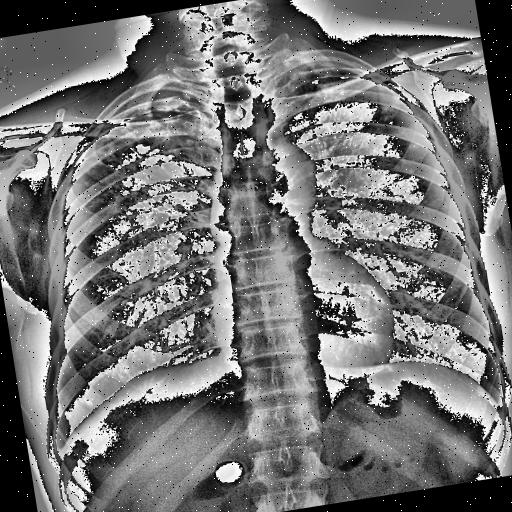1- Atelectasis: (83, 100, 205, 216)
10- Pleural effusion: (48, 432, 72, 463)
11- Pleural thickening: (93, 70, 208, 126), (286, 42, 382, 84), (308, 49, 370, 87), (48, 432, 72, 463)
13- Pulmonary fibrosis: (80, 90, 226, 228), (74, 115, 212, 250), (83, 100, 205, 216), (281, 57, 405, 147)
